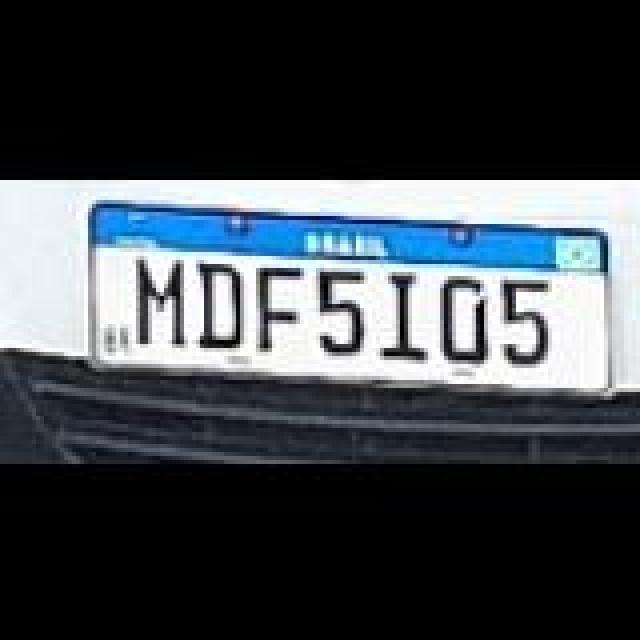5: (310, 264, 370, 352), (504, 276, 560, 364)
D: (438, 272, 498, 360), (190, 260, 250, 348)
F: (252, 260, 308, 348)
I: (378, 268, 430, 356)
M: (134, 254, 194, 346)
